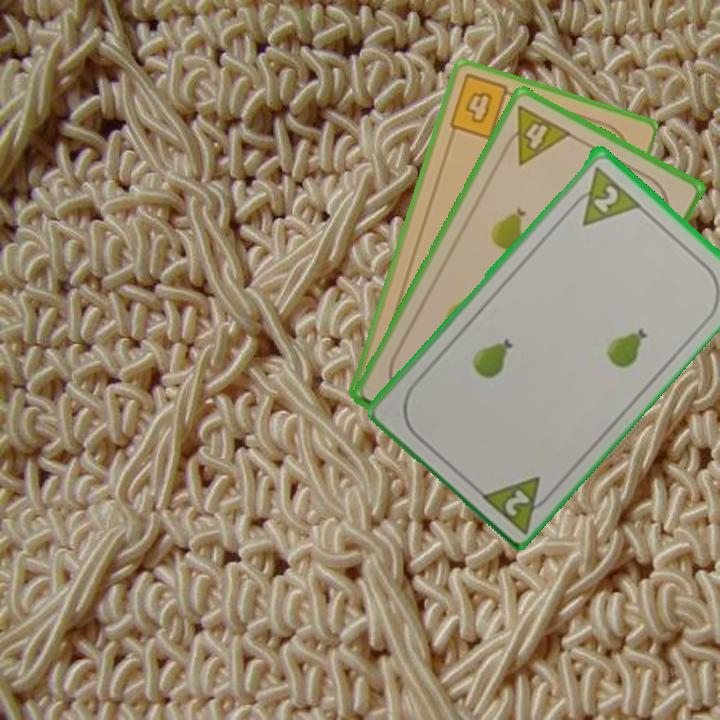2p: (475, 471, 559, 535), (564, 162, 642, 229)
4b: (445, 72, 520, 143)
4p: (496, 101, 575, 168)
